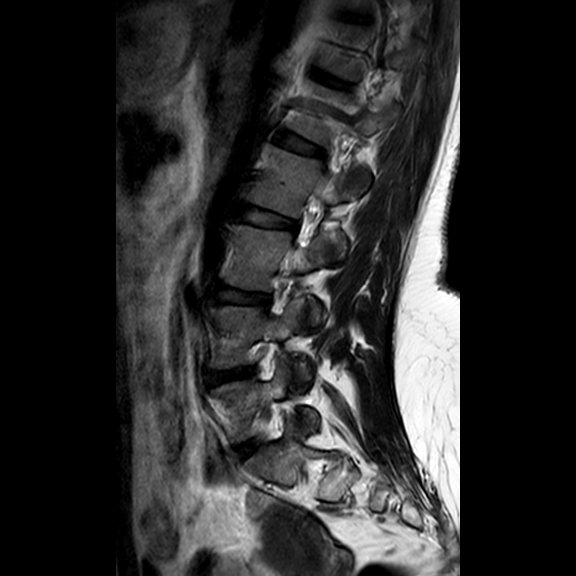RFS0: (289, 183, 328, 255), (262, 256, 298, 322), (248, 326, 283, 390)
